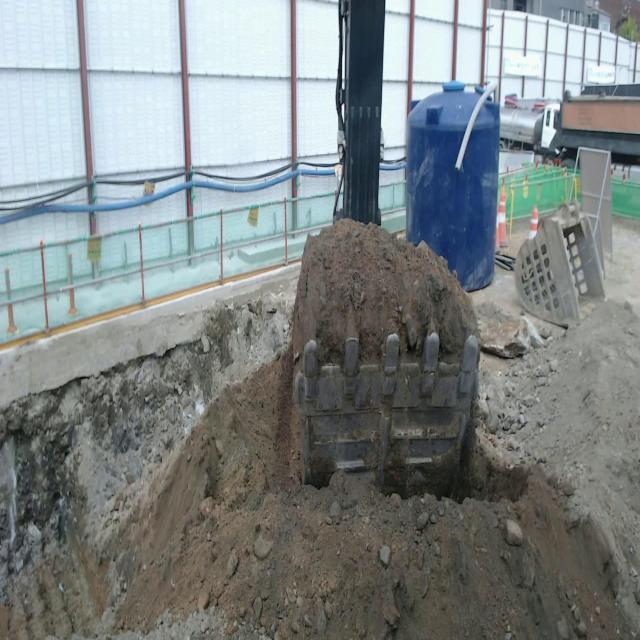stone: (476, 302, 543, 359)
white-sand: (0, 279, 640, 639), (292, 219, 479, 364)
